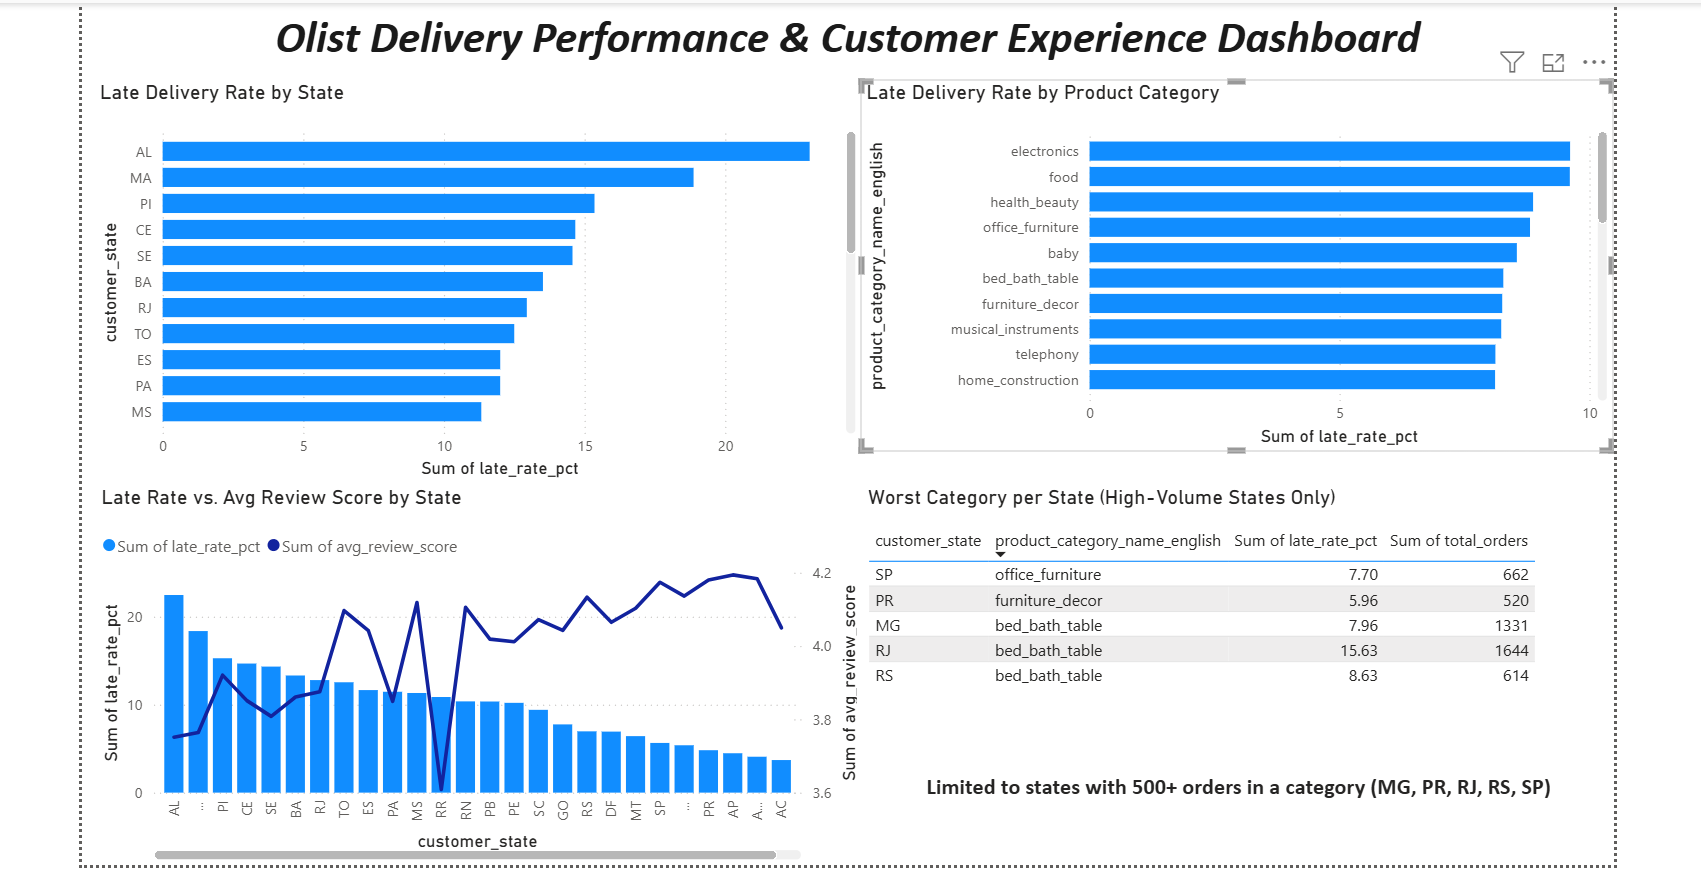

What the dashboard file says about the page in this screenshot:
{"tool":"powerbi","page":{"name":"Page 1","canvas":[1280,720],"ordinal":0},"visuals":[{"type":"barChart","title":"Late Delivery Rate by State","fields":{"Category":["public vw_late_rate_by_state.customer_state"],"Y":["Sum(public vw_late_rate_by_state.late_rate_pct)"]},"box":[9.6,64.5,640.9,337.6],"z":0},{"type":"lineClusteredColumnComboChart","title":"Late Rate vs. Avg Review Score by State","fields":{"Category":["public vw_review_vs_late_by_state.customer_state"],"Y":["Sum(public vw_review_vs_late_by_state.late_rate_pct)"],"Y2":["Sum(public vw_review_vs_late_by_state.avg_review_score)"]},"box":[11,402.1,640.9,318.4],"z":1000},{"type":"clusteredBarChart","title":"Late Delivery Rate by Product Category","fields":{"Category":["public vw_late_rate_by_category.product_category_name_english"],"Y":["Sum(public vw_late_rate_by_category.late_rate_pct)"]},"box":[650.5,64.5,628.5,310.1],"z":2000},{"type":"tableEx","title":"Worst Category per State (High-Volume States Only)","fields":{"Values":["public vw_worst_category_by_state.customer_state","public vw_worst_category_by_state.product_category_name_english","Sum(public vw_worst_category_by_state.late_rate_pct)","Sum(public vw_worst_category_by_state.total_orders)"]},"box":[651.9,402.1,628.5,318.4],"z":3000},{"type":"textbox","box":[0,0,1279,64.5],"z":4000},{"type":"textbox","box":[699.9,638.1,579.1,82.3],"z":5000}]}

Visuals, with their boxes on the page's 1280x720 design canvas (x1, y1, x2, y2). These are canvas units, not pixel positions in the 1701x876 screenshot, which may show the page scaled, cropped or inside an application window:
"Late Delivery Rate by State" barChart: l=10, t=64, r=650, b=402
"Late Rate vs. Avg Review Score by State" lineClusteredColumnComboChart: l=11, t=402, r=652, b=720
"Late Delivery Rate by Product Category" clusteredBarChart: l=650, t=64, r=1279, b=375
"Worst Category per State (High-Volume States Only)" tableEx: l=652, t=402, r=1280, b=720
textbox: l=0, t=0, r=1279, b=64
textbox: l=700, t=638, r=1279, b=720
